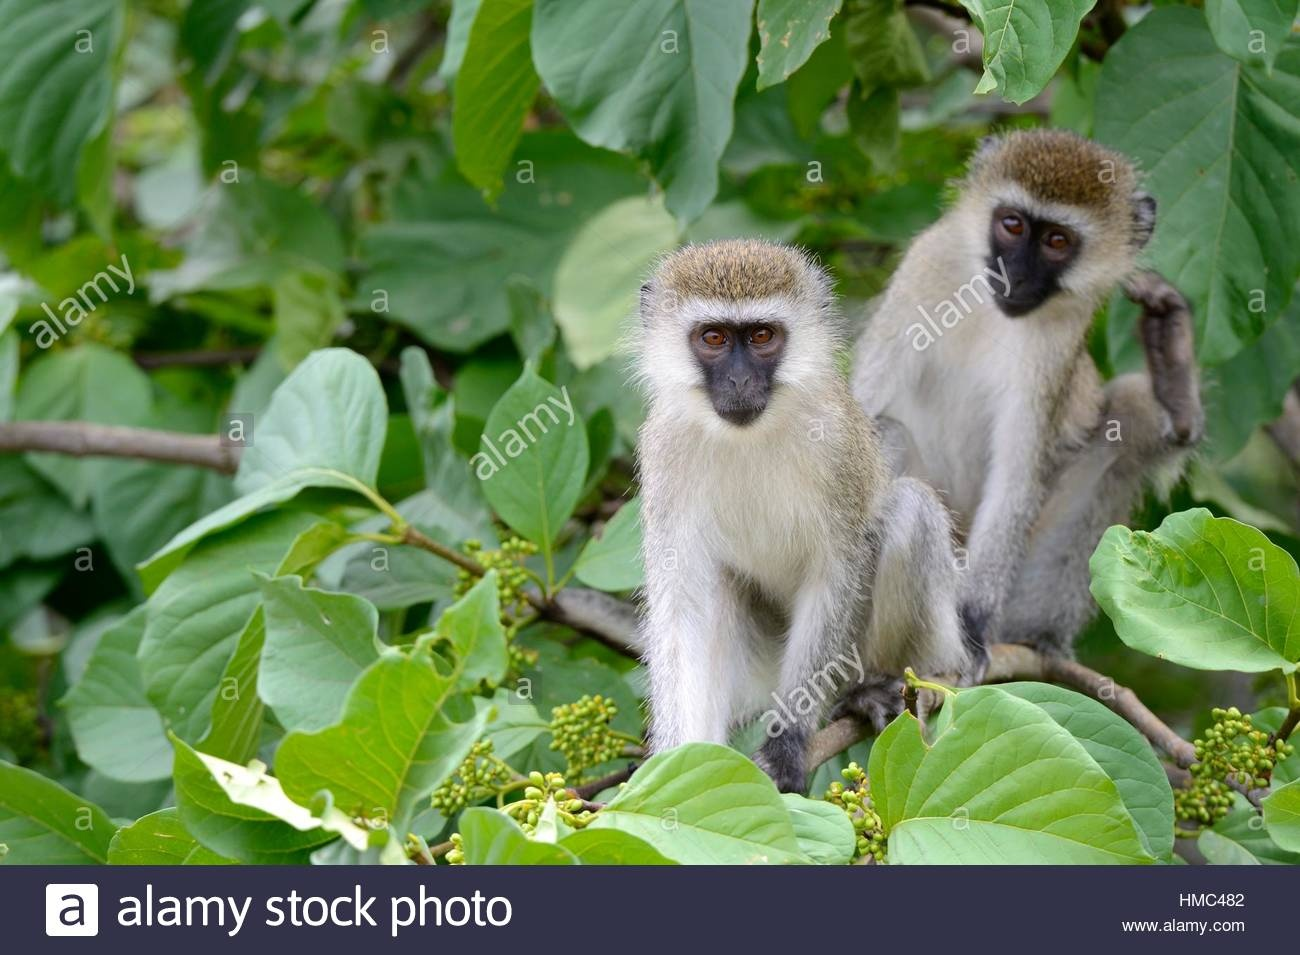monkey: (849, 123, 1218, 685), (618, 230, 969, 792)
